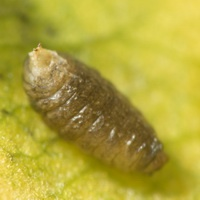insect: (23, 44, 167, 172)
